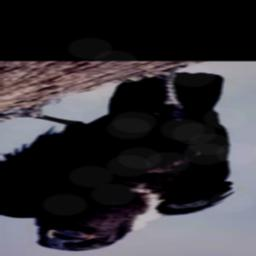Crow: (0, 67, 238, 252)
